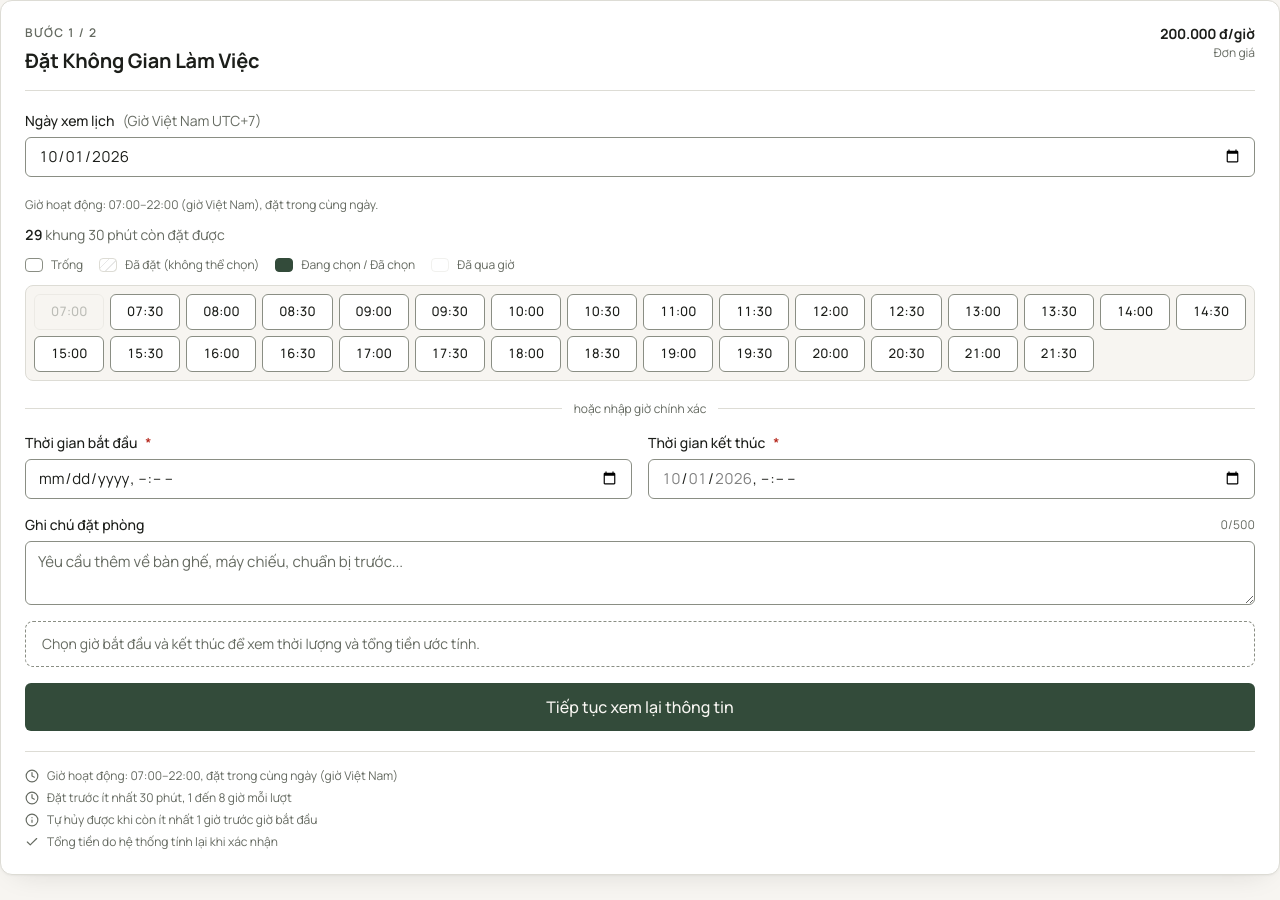
Test case: BookingForm › Form Validation & Price Preview › validates required fields on submit
Click the button with test id "booking-submit-btn".
click(640, 707)  # box [25,683,1255,731]
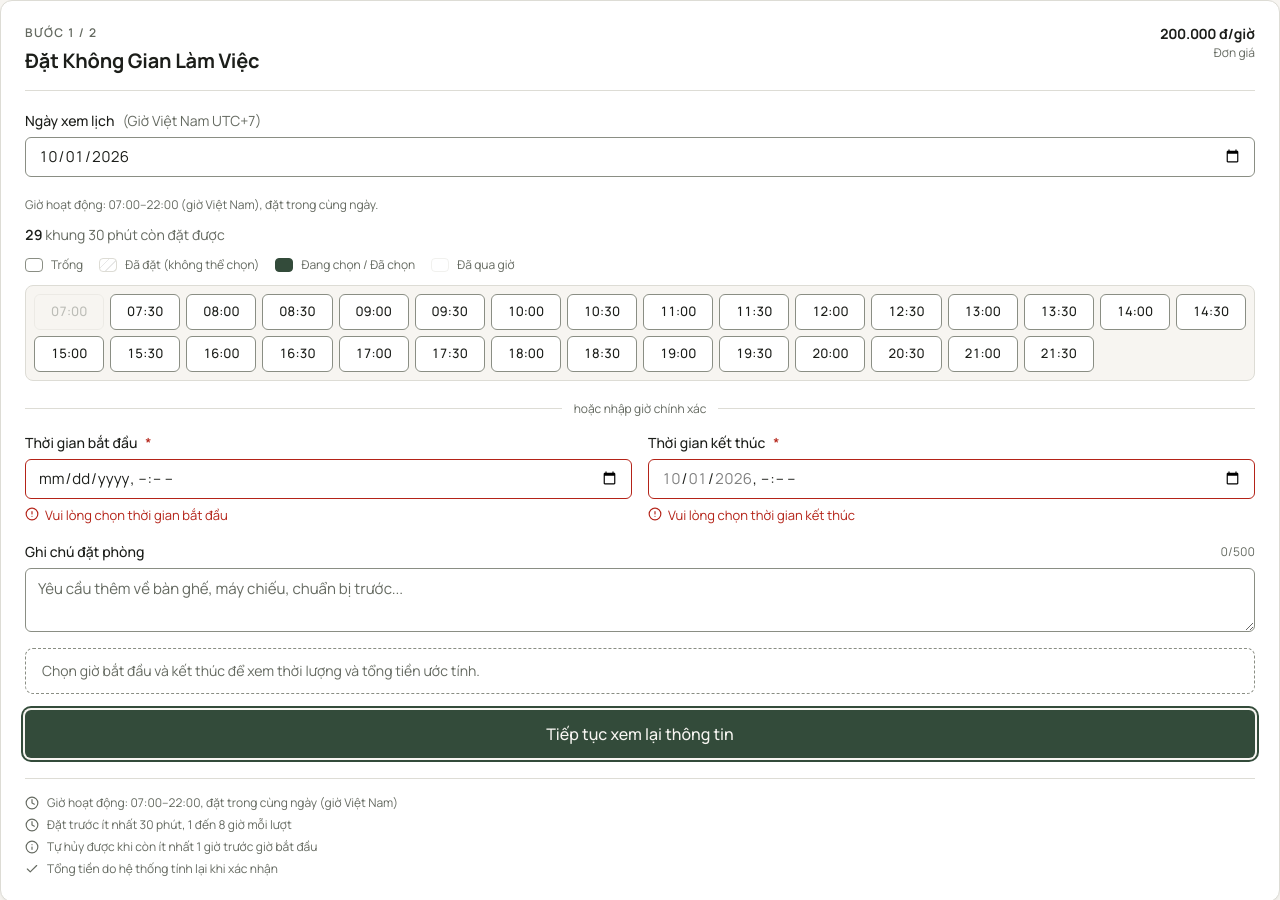
Expected: the text "Vui lòng chọn thời gian bắt đầu" is shown, [45,505,228,526]
Expected: the text "Vui lòng chọn thời gian kết thúc" is shown, [668,505,855,526]
